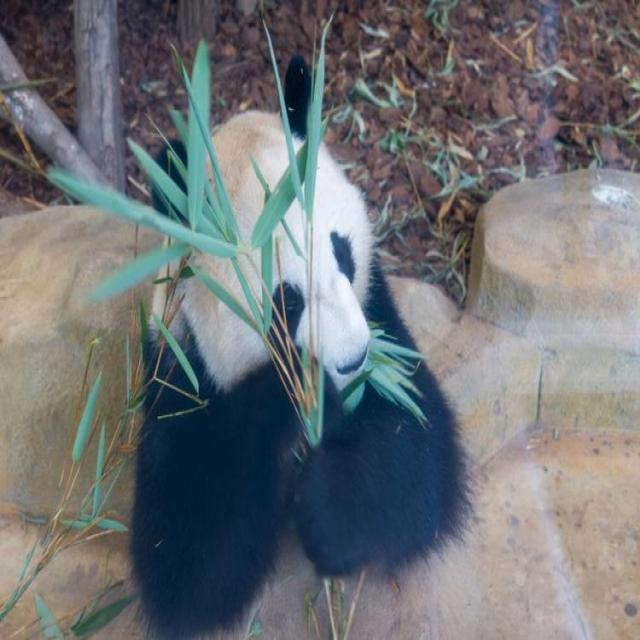panda: (118, 43, 480, 640)
